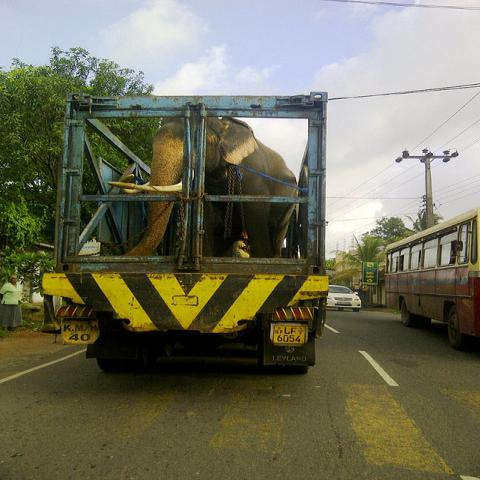bus: (385, 202, 479, 352)
car: (326, 284, 361, 312)
truck: (40, 93, 330, 377)
